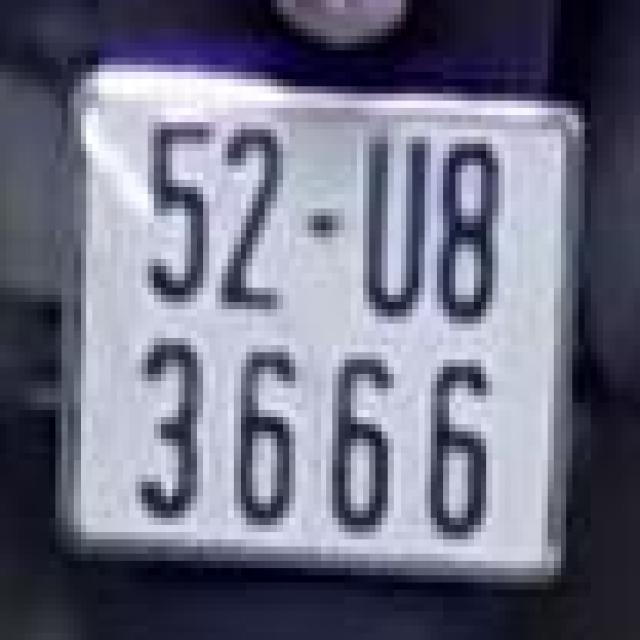2: (218, 119, 292, 334)
3: (123, 331, 209, 532)
5: (126, 108, 212, 309)
6: (406, 345, 492, 539), (326, 345, 400, 539), (231, 338, 298, 525)
8: (440, 133, 502, 342)
U: (363, 130, 431, 323)
